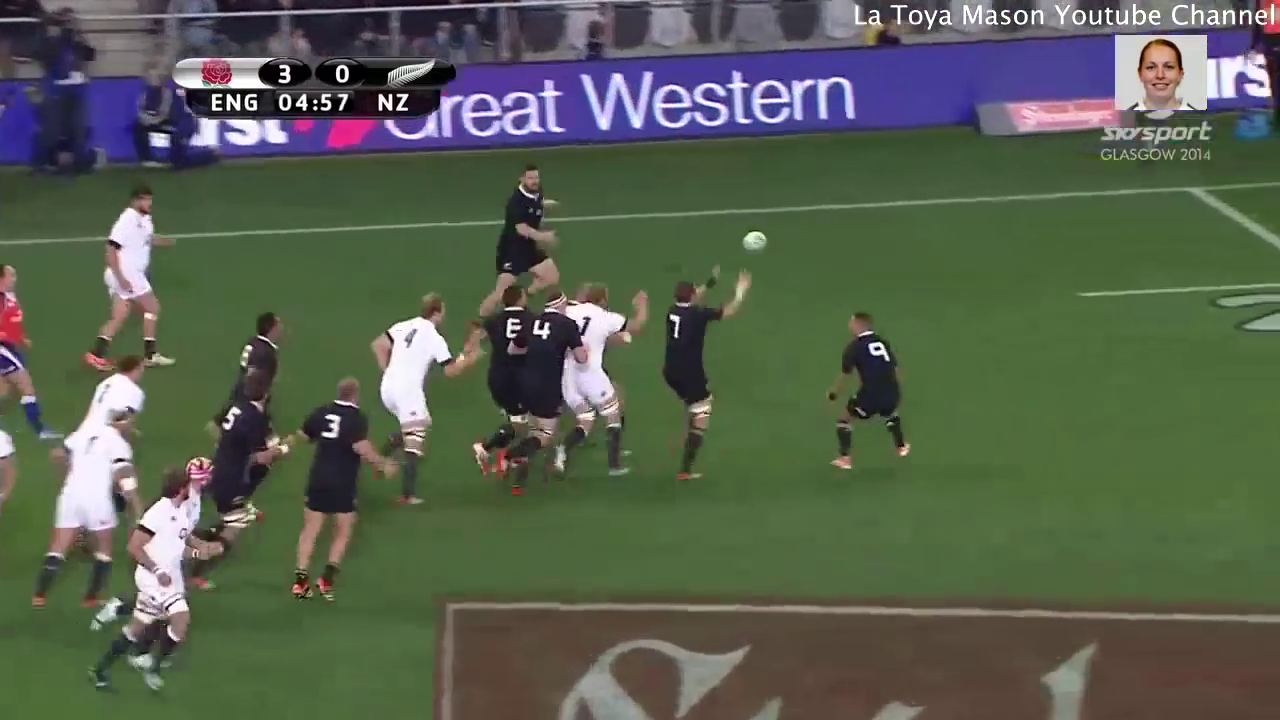ball: (727, 220, 783, 267)
player: (640, 262, 769, 484), (94, 464, 206, 701), (284, 376, 384, 612), (365, 283, 467, 513), (31, 397, 136, 608), (814, 302, 938, 470), (82, 179, 180, 376), (553, 275, 640, 483), (504, 287, 579, 496), (196, 380, 285, 552), (1, 256, 69, 441), (476, 154, 570, 286), (472, 280, 527, 486), (73, 347, 163, 439), (225, 313, 292, 388)
